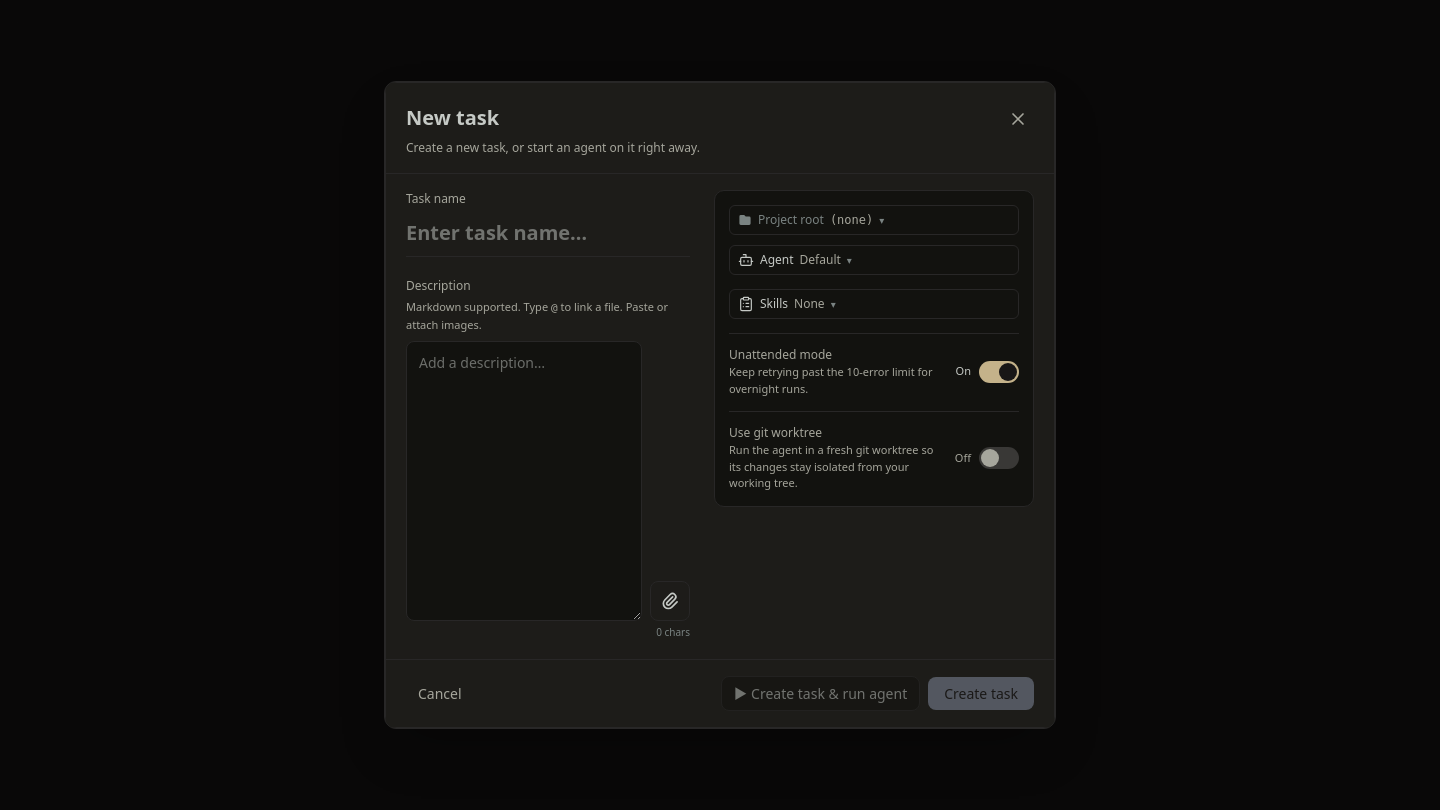
Scenario: KanbanTaskDetailDialog — agent picker › selecting a profile updates the button label
Click the button with test id "kanban-task-detail-agent-picker" at (777, 260), box x1=729 y1=245 x2=1019 y2=275
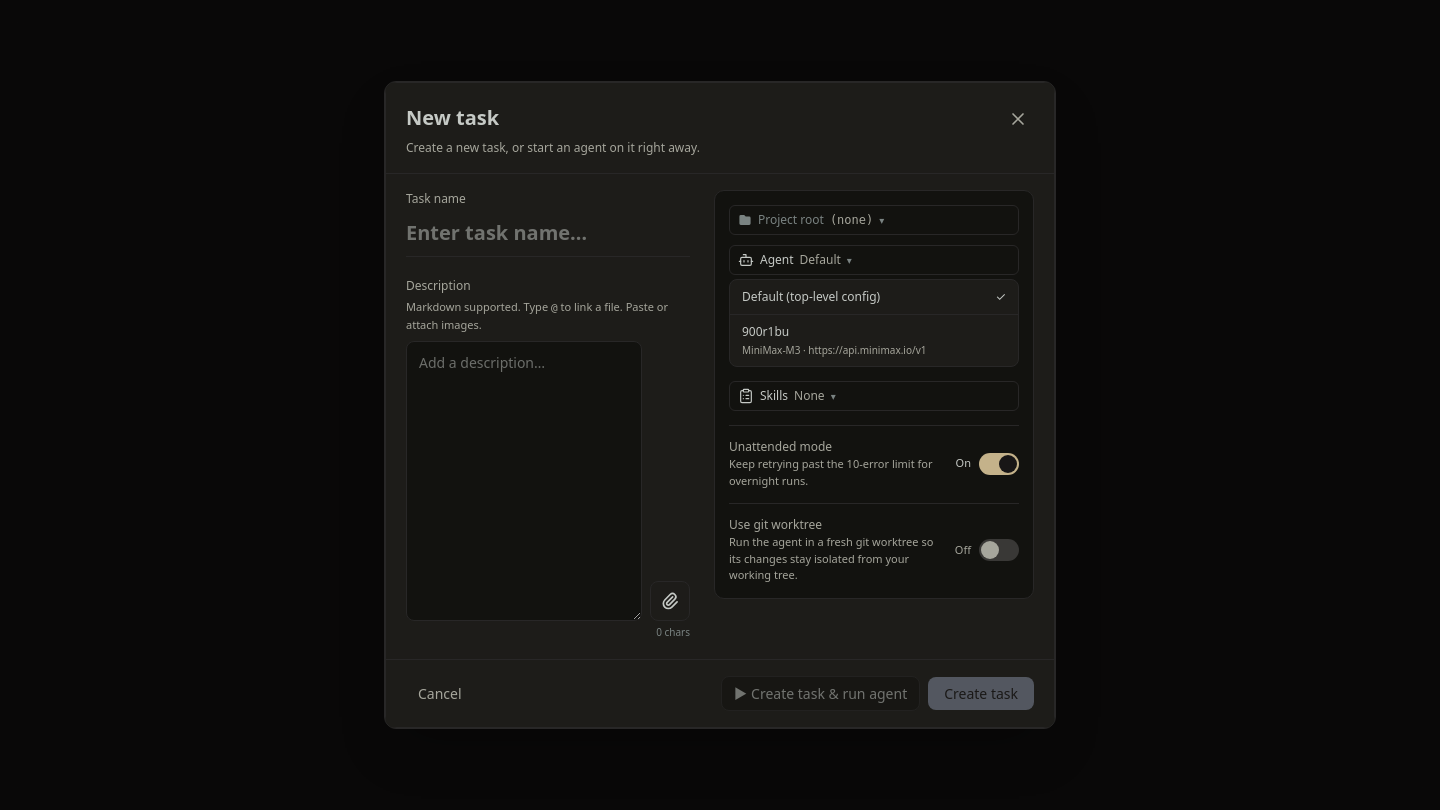
Click the button with test id "kanban-task-detail-agent-picker-item" that starts with "900r1bu" at (874, 340), box x1=730 y1=314 x2=1018 y2=366
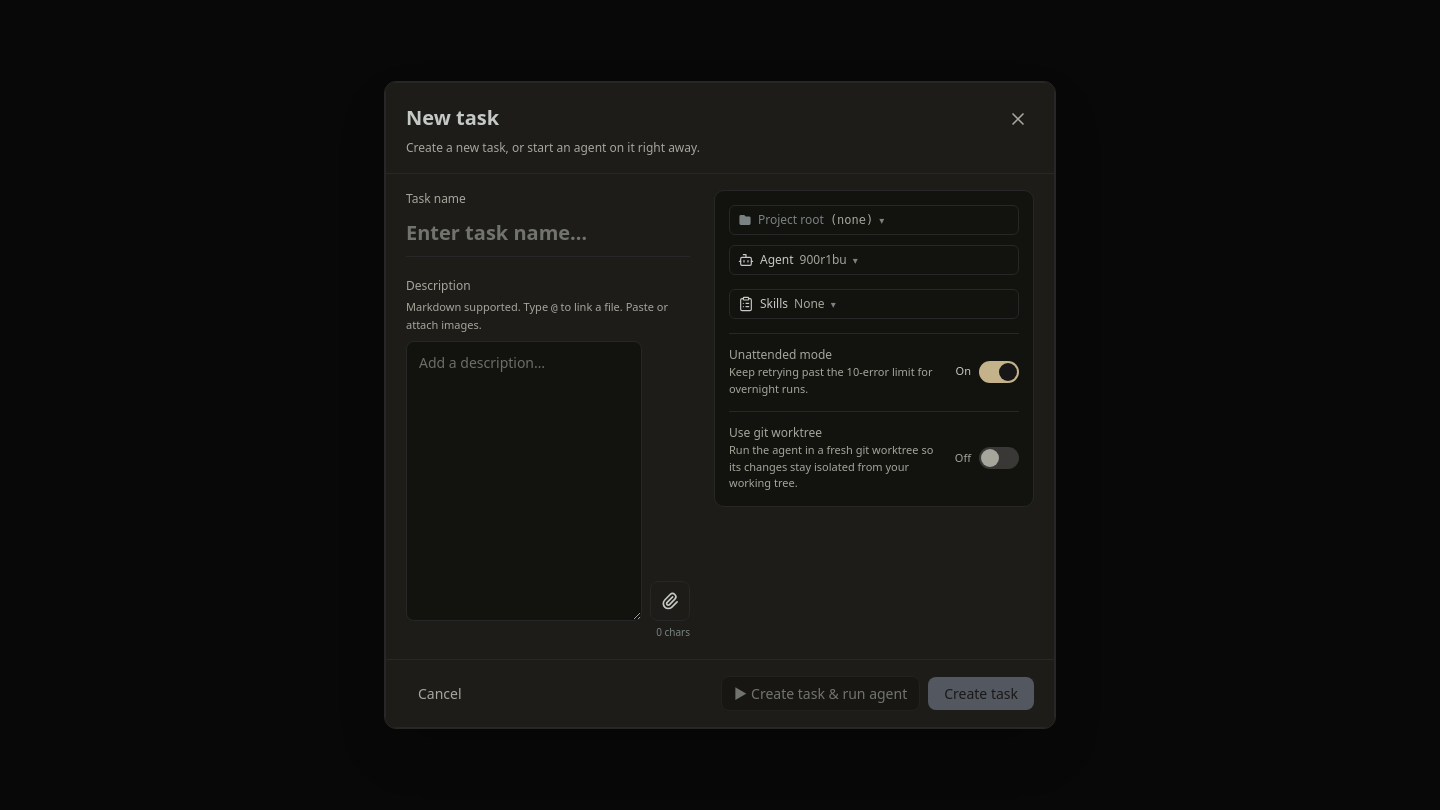
expect the button with test id "kanban-task-detail-agent-picker" shows "900r1bu": met, box x1=729 y1=245 x2=1019 y2=275
